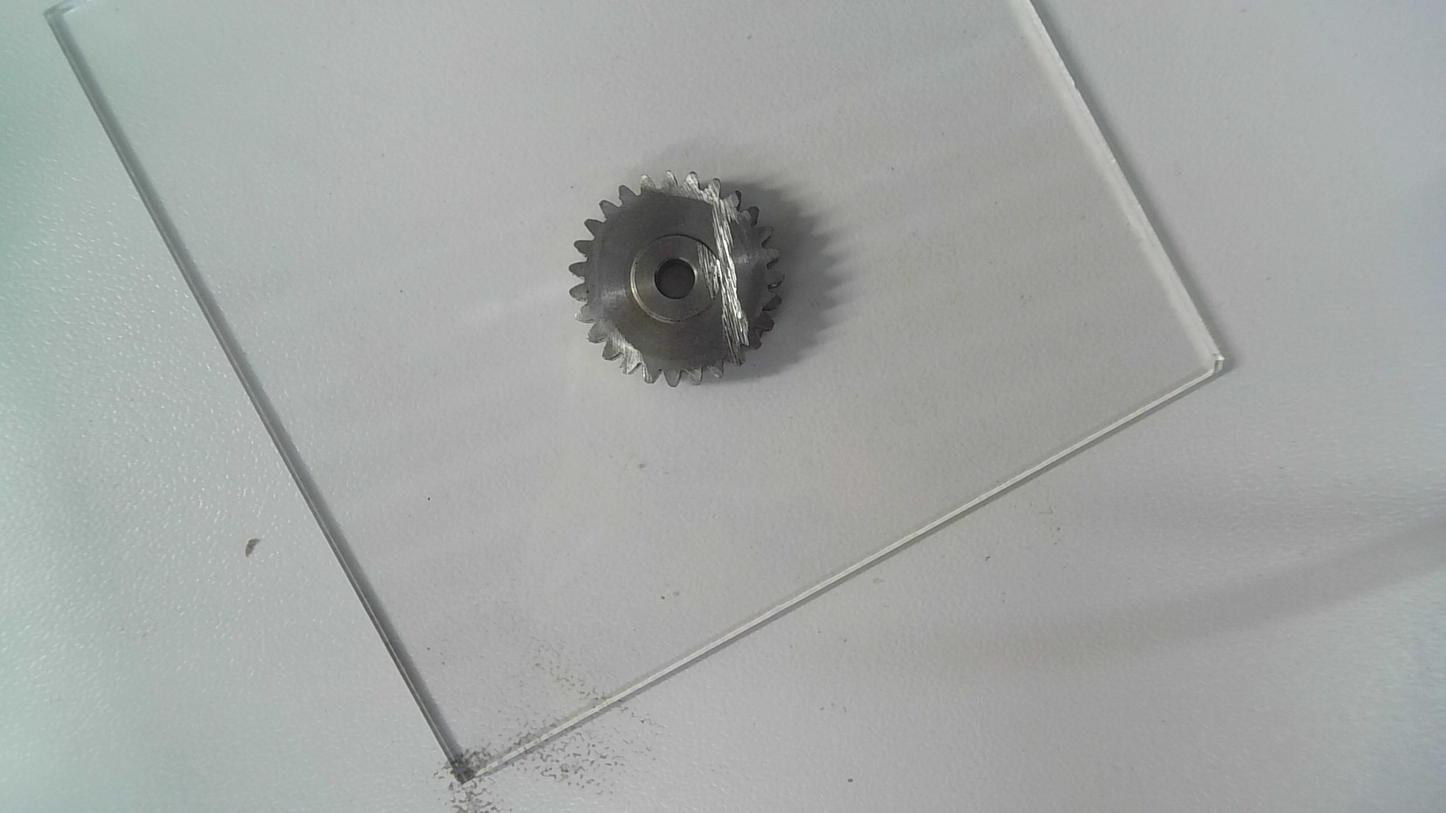gear: (565, 169, 788, 392)
